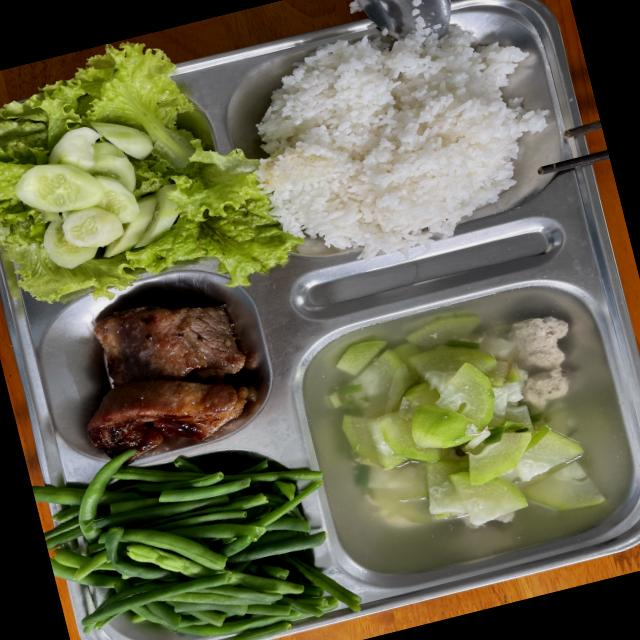canh bau: (302, 288, 633, 574)
com: (256, 23, 546, 257), (367, 183, 371, 189)
dau que: (32, 450, 360, 635)
dua leo: (15, 121, 179, 268)
rau: (0, 42, 302, 302)
thit chien: (87, 306, 246, 454)
